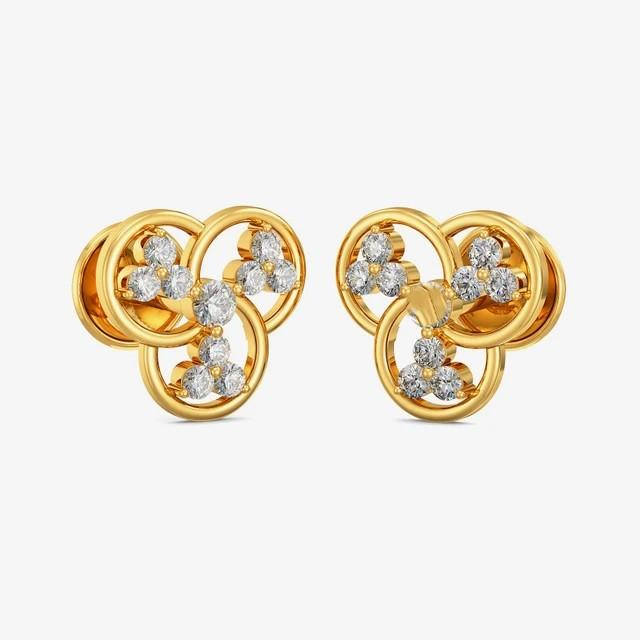missing gem: (409, 281, 449, 325)
